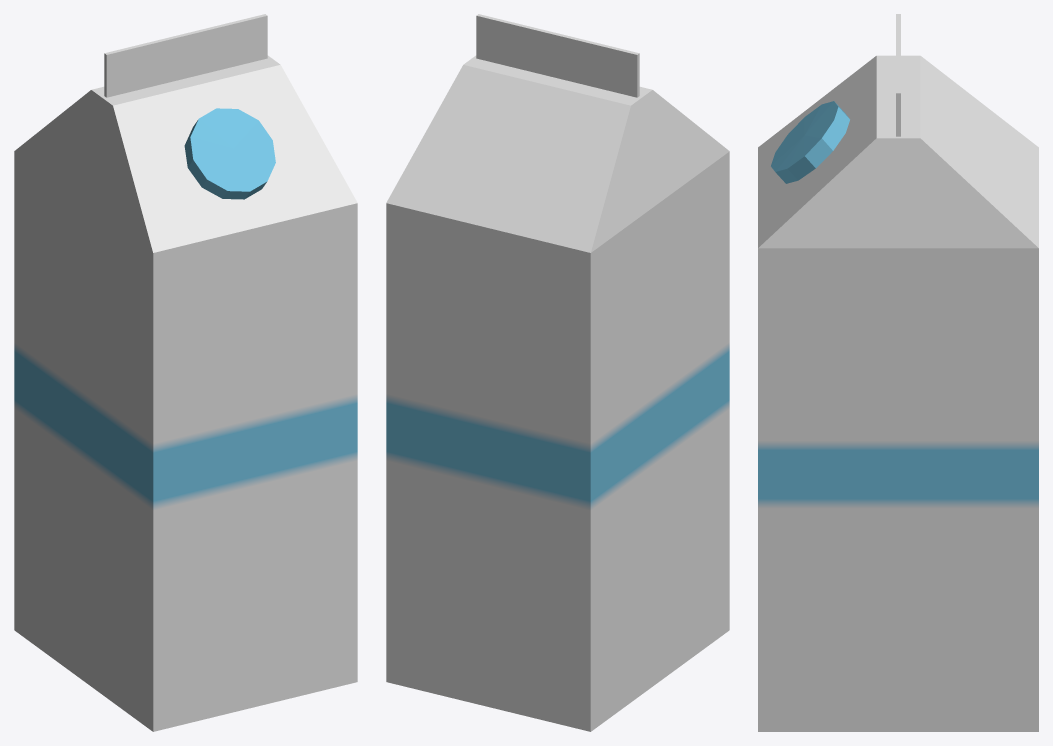
The model's file is Cartone latte.fbx.
3 renders of one model, left to right at view 1: azimuth 30°, elevation 25°; view 2: azimuth 150°, elevation 25°; view 3: azimuth 270°, elevation 25°, orthographic.
Parts seen in each view (by area): view 1: Cube.001; view 2: Cube.001; view 3: Cube.001.
Boxes of the visible parts, x1,y1,x2,y2 form: Cube.001: [14, 14, 357, 731]; Cube.001: [386, 14, 729, 731]; Cube.001: [758, 14, 1038, 731].
Size of the model in its own units: 8.79 by 25.52 by 10.34.
